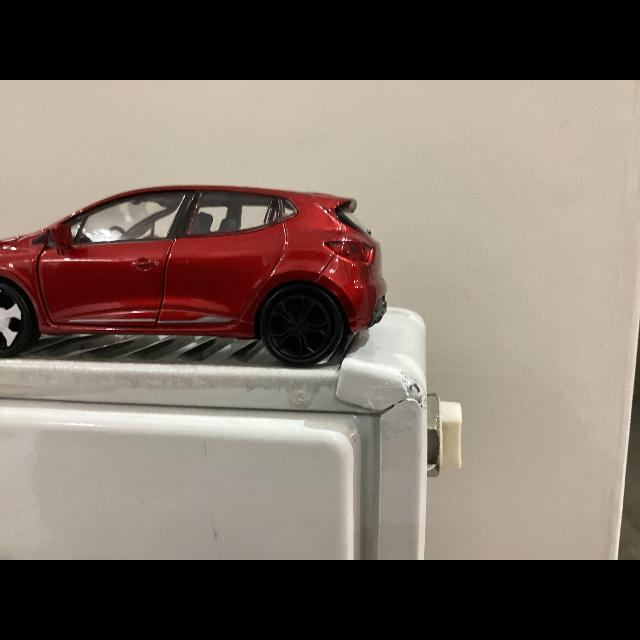Dogru_Jant: (268, 294, 330, 358), (0, 283, 38, 355)
